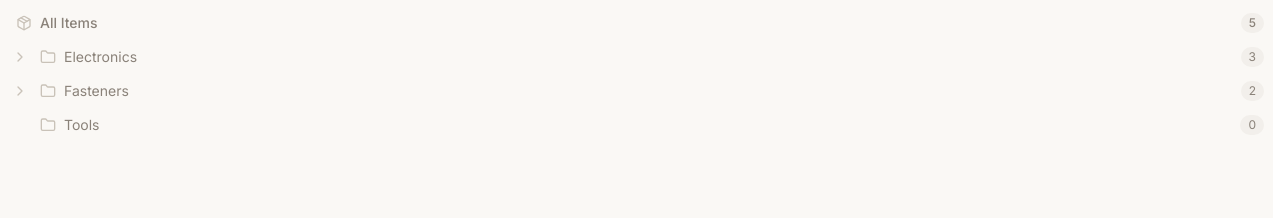
Test: InventorySidebar › expand/collapse › should expand category on click to show subcategories
Click the button named "expand electronics" at point(20, 57), box x1=8 y1=45 x2=32 y2=69
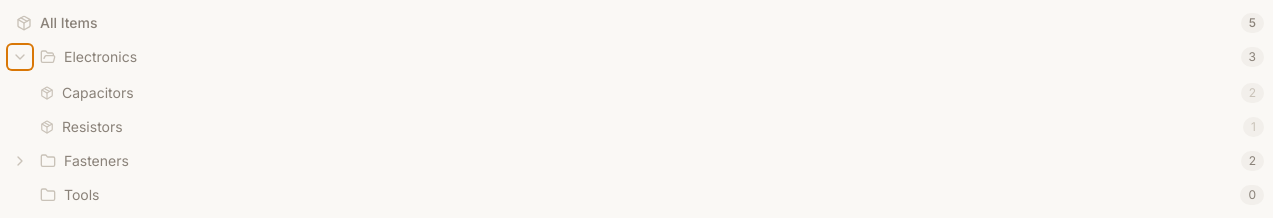
Check: the text "Capacitors" is shown, box x1=62 y1=84 x2=134 y2=101
Check: the text "Resistors" is shown, box x1=62 y1=118 x2=123 y2=135
